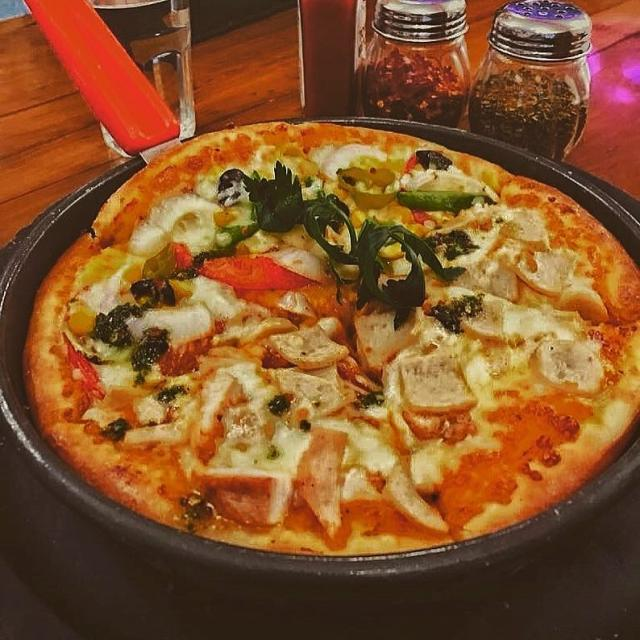basil: (359, 203, 475, 320), (237, 161, 357, 272)
pizza: (25, 122, 640, 554)
